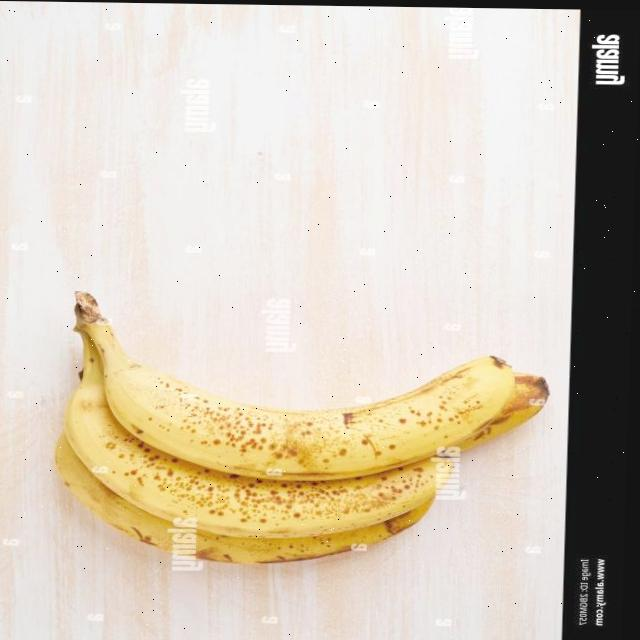banana: (43, 288, 558, 573)
